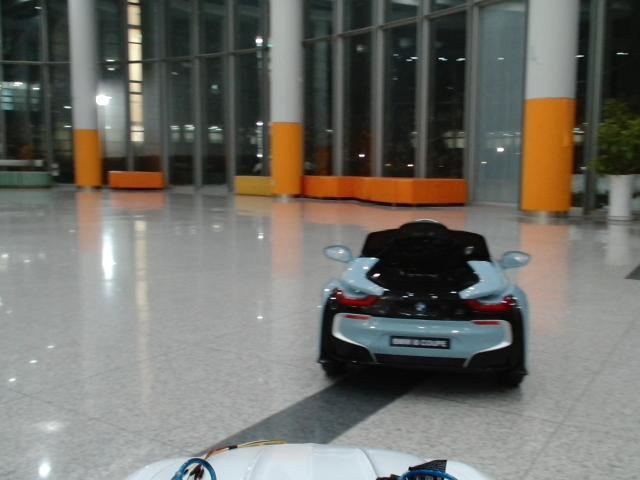car: (317, 220, 532, 390)
